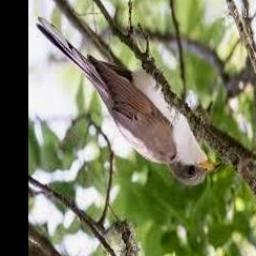Cuckoo: (37, 18, 221, 186)
